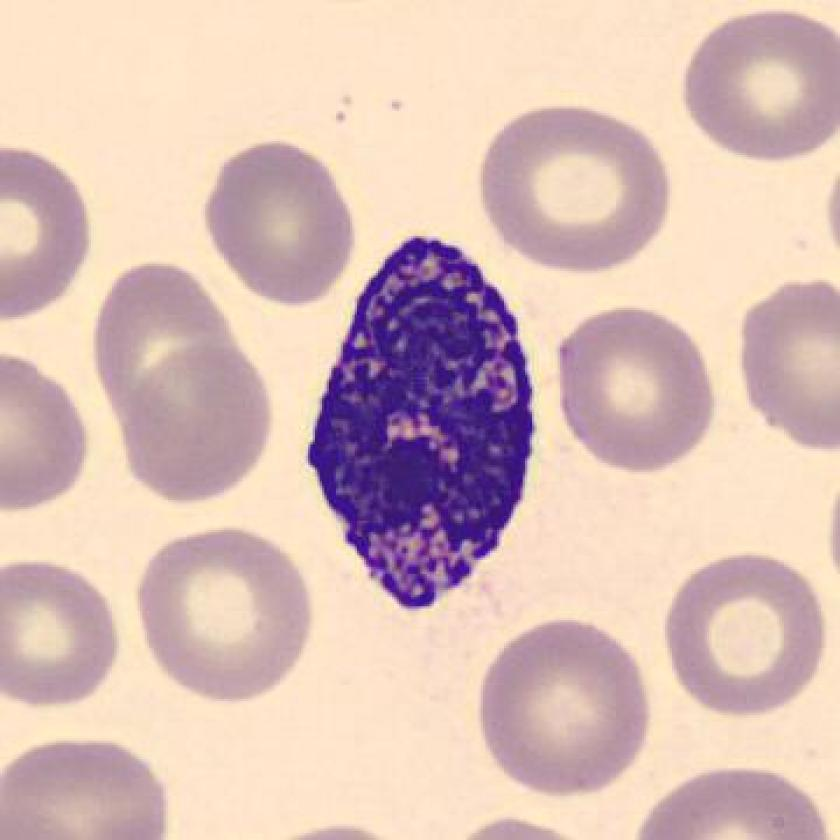basophil: (307, 233, 549, 622)
